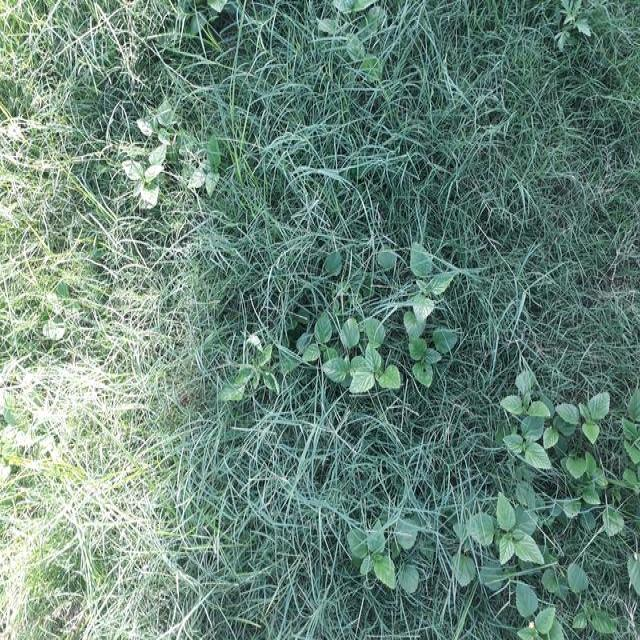weed: (264, 174, 433, 339), (478, 351, 640, 520), (431, 465, 568, 635), (100, 13, 222, 128), (115, 103, 220, 227), (315, 451, 391, 550), (315, 0, 402, 61), (550, 4, 594, 56)
